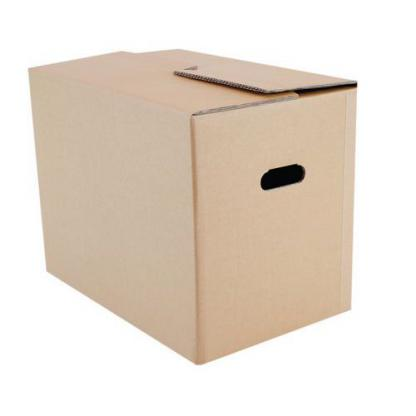box: (25, 47, 359, 365)
